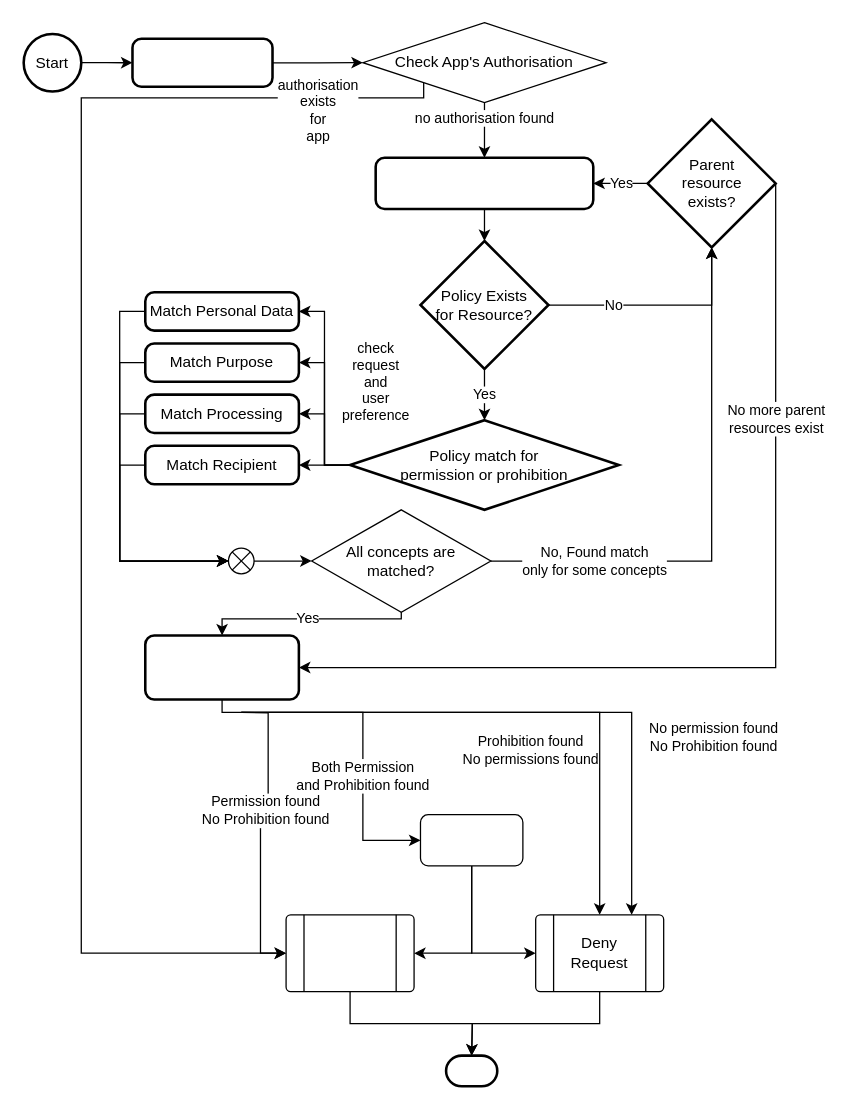
Image size: 846x1110. Some labels were removed from this diagram. The shapes that lost their labels are listed below. From the top down, each one's centre as x and y in pixels, then its label:
At (x=202, y=62): "Receive Request from App".
At (x=484, y=183): "Fetch User Policies for Resource".
At (x=221, y=667): "Collect Matched Policies".
At (x=471, y=839): "Conflict Resolution".
At (x=349, y=953): "Authorise Request".
At (x=471, y=1070): "END".
